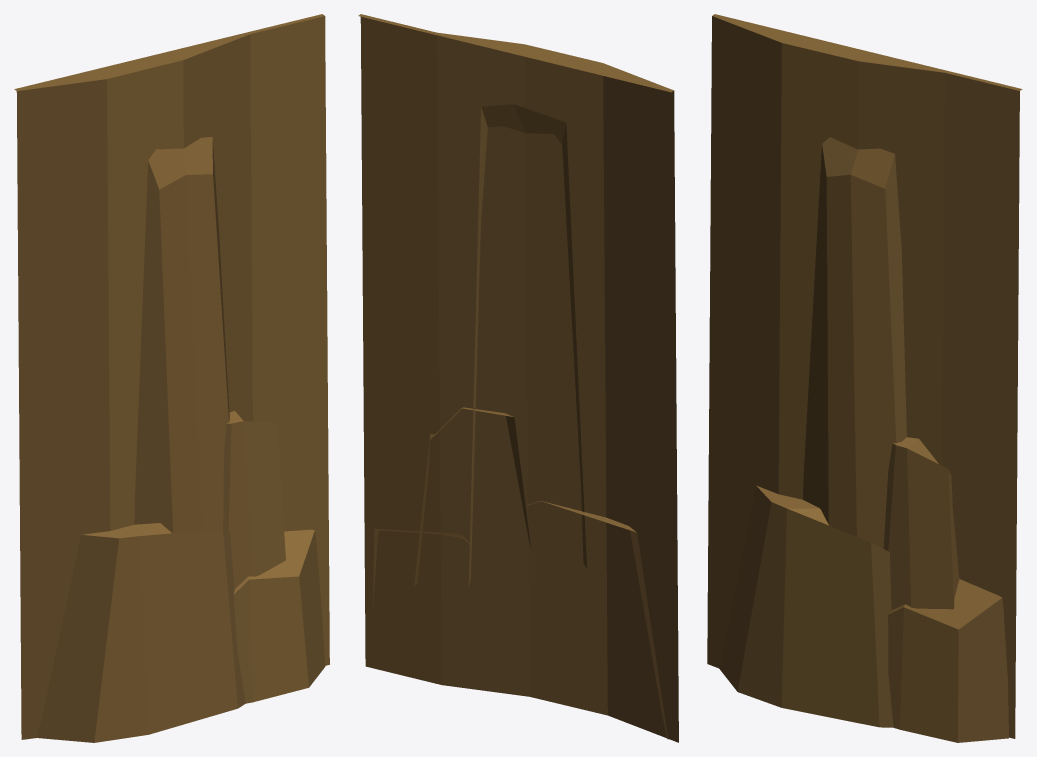
Rendered from SD_Env_Cave_Wall_01.fbx.
3 views of the same model, side by side, from view 1: azimuth 30°, elevation 25°; view 2: azimuth 150°, elevation 25°; view 3: azimuth 330°, elevation 25° (orthographic).
Parts seen in each view (by area): view 1: SD_Env_Cave_Wall_01; view 2: SD_Env_Cave_Wall_01; view 3: SD_Env_Cave_Wall_01.
Boxes of the visible parts, box(x1,y1,x2,y2) form: SD_Env_Cave_Wall_01: box(14, 14, 329, 742); SD_Env_Cave_Wall_01: box(358, 14, 678, 742); SD_Env_Cave_Wall_01: box(707, 14, 1022, 742).
Bounding box in the file's own units: 10 × 20 × 1.9.
